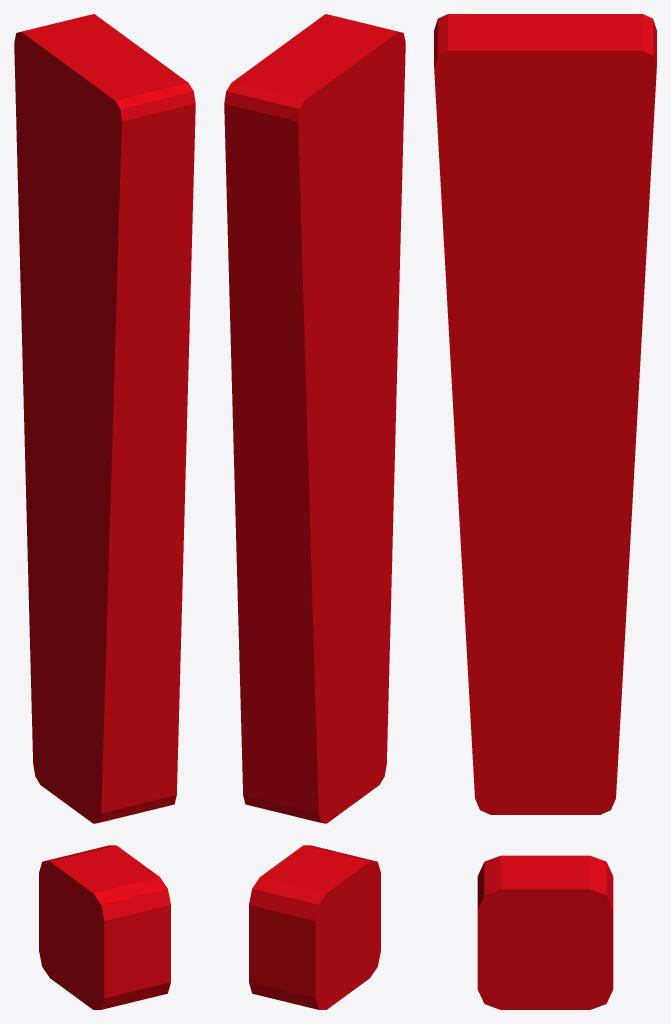
The model's file is SignoExclamacion.fbx.
3 views of the same model, side by side, from view 1: azimuth 30°, elevation 25°; view 2: azimuth 150°, elevation 25°; view 3: azimuth 270°, elevation 25° (orthographic). The views are drawn at different scales.
Parts seen in each view (by area): view 1: SignoExclamacion; view 2: SignoExclamacion; view 3: SignoExclamacion.
Part boxes in pixels (x1,y1,x2,y2): SignoExclamacion: (14,14,195,1009); SignoExclamacion: (224,14,405,1009); SignoExclamacion: (434,14,656,1009).
Bounding box in the file's own units: 23.69 × 276 × 58.07.
